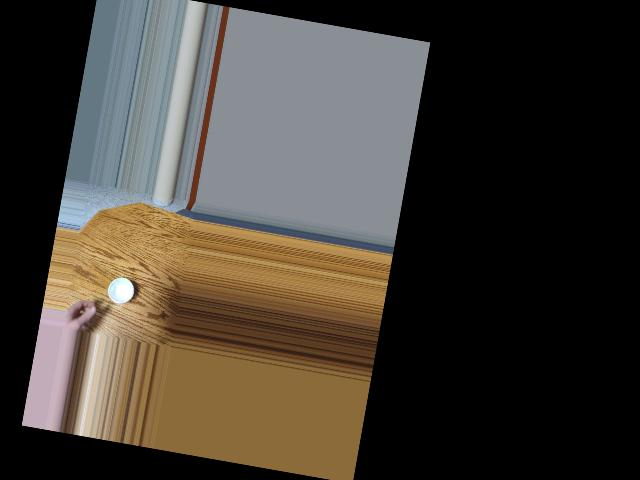cotage: (102, 272, 136, 309)
